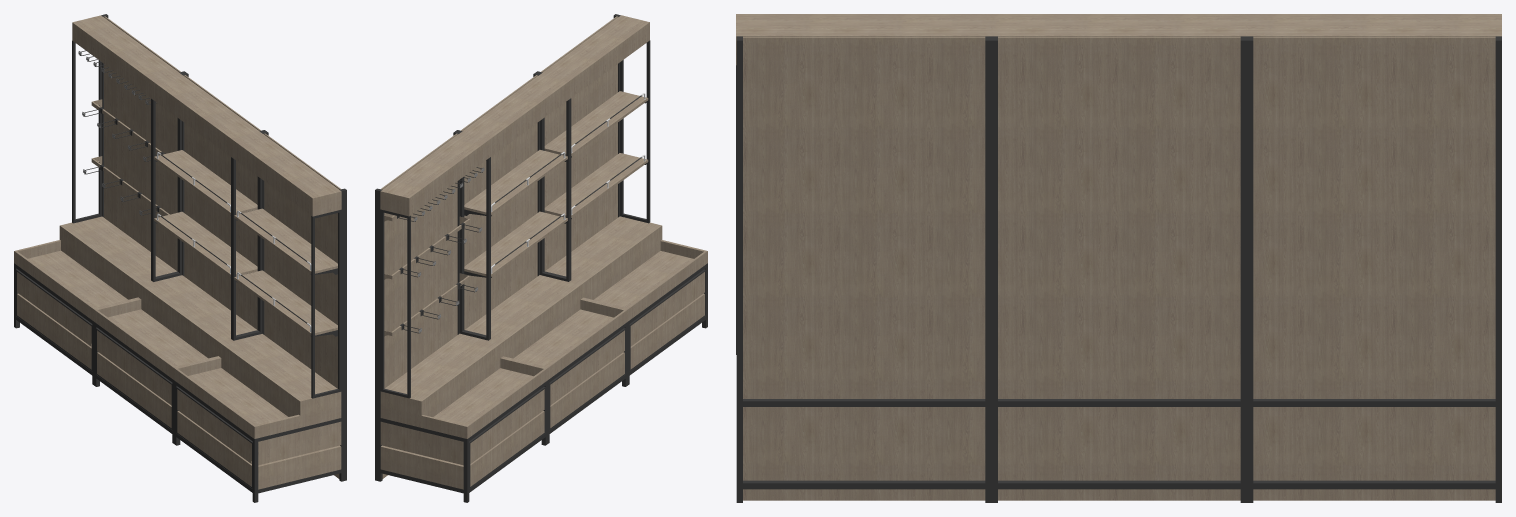
Rendered from SM_鸡蛋货架001.fbx.
3 renders of one model, left to right at view 1: azimuth 30°, elevation 25°; view 2: azimuth 150°, elevation 25°; view 3: azimuth 270°, elevation 25°, orthographic. The views are drawn at different scales.
Visible parts, largest first — view 1: SM_鸡蛋货架001; view 2: SM_鸡蛋货架001; view 3: SM_鸡蛋货架001.
Part boxes in pixels (x1,y1,x2,y2): SM_鸡蛋货架001: (14,14,346,502); SM_鸡蛋货架001: (375,14,707,502); SM_鸡蛋货架001: (736,14,1501,502).
Bounding box in the file's own units: 79.8 × 240 × 360.
